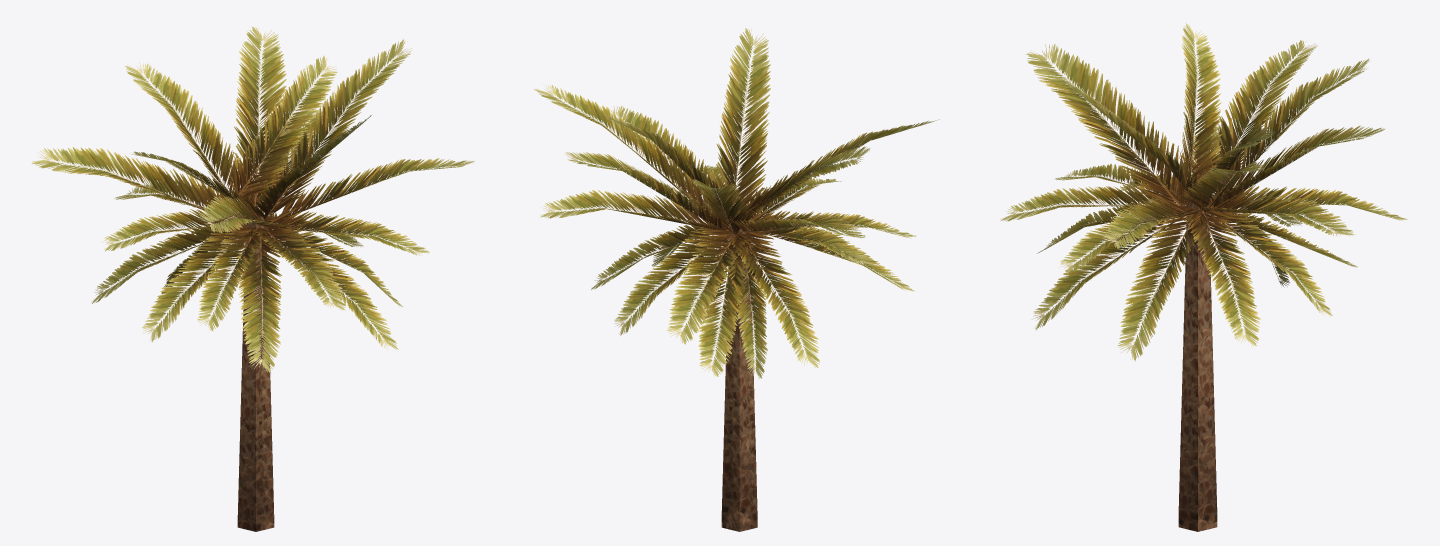
File: mauritania_palm.fbx
The picture shows the model from 3 angles, left to right: view 1: azimuth 30°, elevation 25°; view 2: azimuth 150°, elevation 25°; view 3: azimuth 270°, elevation 25°; orthographic projection. The views are drawn at different scales.
Parts seen in each view (by area): view 1: tree_01; view 2: tree_01; view 3: tree_01.
Boxes of the visible parts, bbox=[...] form: tree_01: bbox=[31, 26, 474, 531]; tree_01: bbox=[534, 28, 939, 531]; tree_01: bbox=[1000, 23, 1407, 531].
Bounding box in the file's own units: 132 × 151 × 125.
